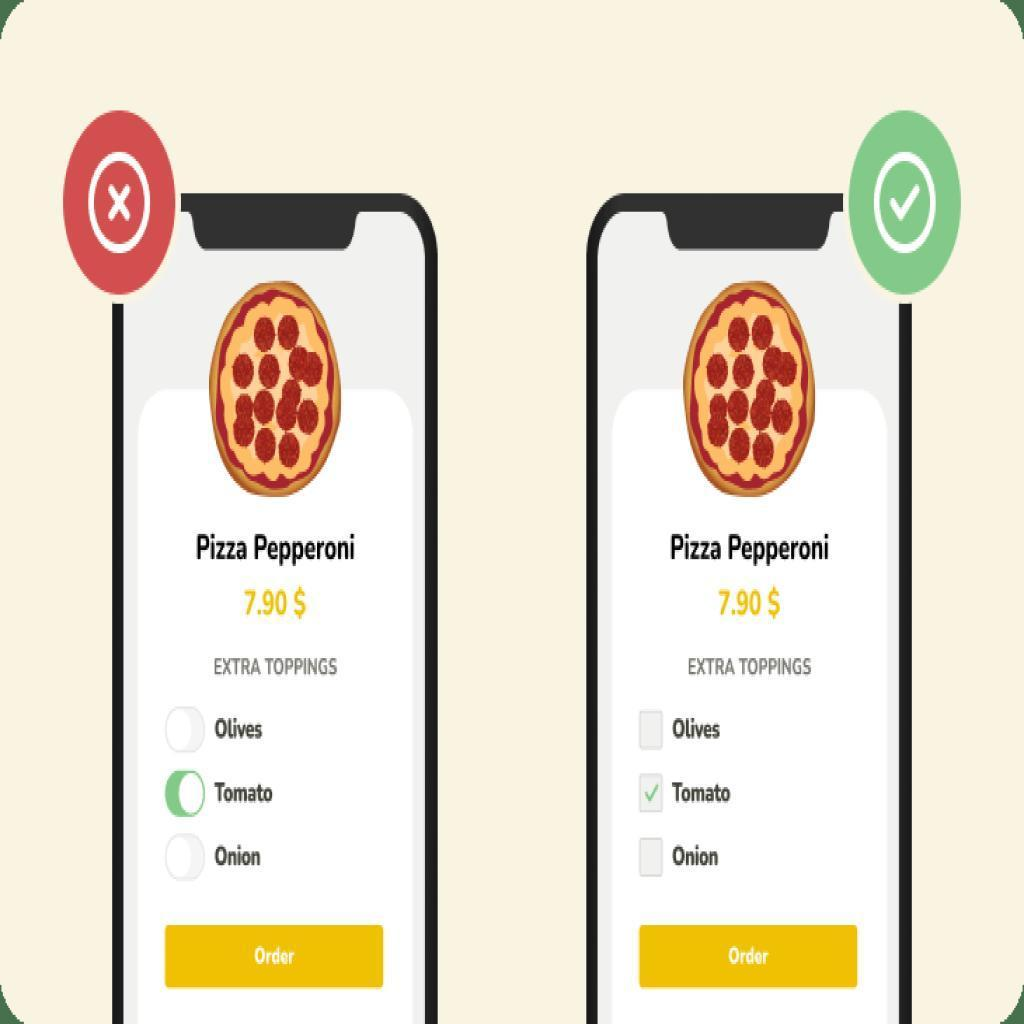button: (167, 924, 385, 989), (640, 926, 858, 991)
checkbox: (640, 776, 664, 814), (642, 712, 664, 753), (640, 838, 663, 877)
label: (214, 779, 276, 811), (672, 781, 735, 805), (671, 843, 722, 871), (673, 715, 721, 744), (215, 715, 264, 743), (216, 842, 262, 871)
switch: (163, 769, 210, 819), (165, 836, 205, 889), (165, 704, 207, 753)
